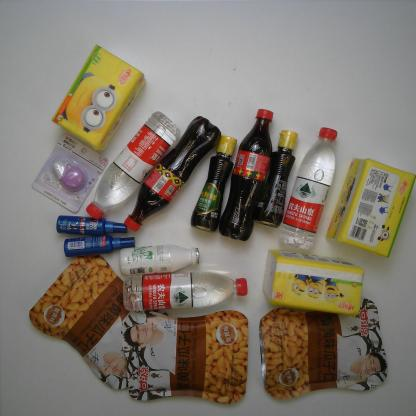Dried Fruit: (29, 255, 168, 389), (259, 298, 388, 400), (120, 310, 249, 404)
Drink: (124, 116, 221, 233), (85, 110, 181, 220), (278, 126, 338, 252), (219, 108, 274, 242), (122, 271, 248, 312)
Milk: (119, 245, 201, 276)
Personal Hygiene: (64, 235, 135, 257), (56, 216, 128, 236)
Seasoner: (190, 134, 238, 232), (253, 130, 298, 228)
Stationery: (31, 133, 108, 214)
Tissue: (49, 42, 145, 152), (325, 157, 416, 258), (262, 249, 366, 316)
